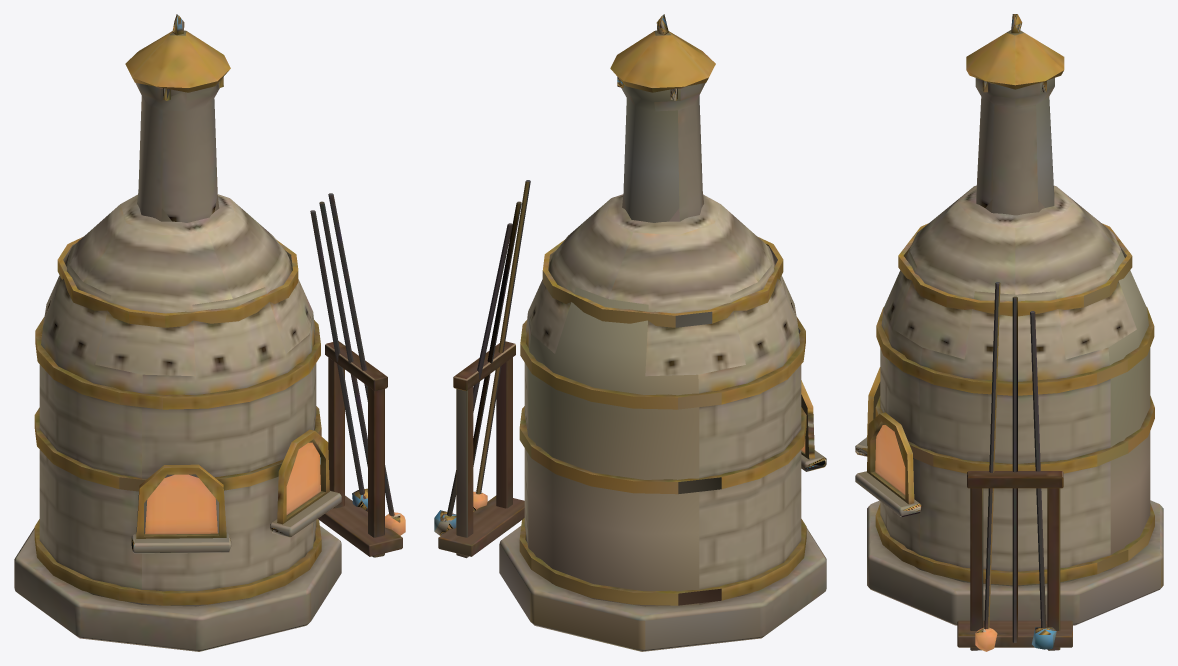
Rendered from glass-furnace.low.glb.
3 renders of one model, left to right at view 1: azimuth 30°, elevation 25°; view 2: azimuth 150°, elevation 25°; view 3: azimuth 270°, elevation 25°, orthographic. The views are drawn at different scales.
Visible parts, largest first — view 1: glass-furnace; view 2: glass-furnace; view 3: glass-furnace.
Part boxes in pixels (x1,y1,x2,y2): glass-furnace: (14,14,405,651); glass-furnace: (434,14,826,651); glass-furnace: (855,14,1163,651).
Size of the model in its own units: 1.2 by 1.89 by 0.9601.
2 materials, 2 textured.
